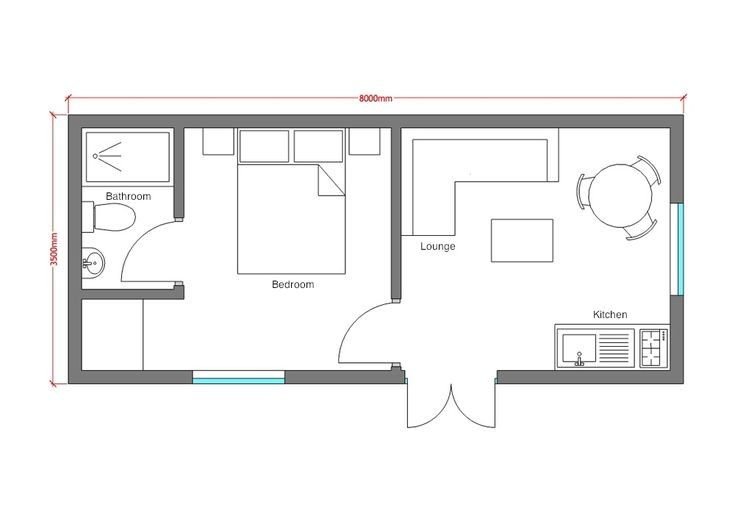door: (408, 355, 503, 446), (119, 223, 202, 299), (335, 298, 416, 375)
room: (400, 117, 692, 386), (180, 135, 406, 382), (69, 111, 201, 312)
wall: (63, 103, 686, 141), (65, 103, 88, 385), (495, 361, 683, 392), (283, 364, 408, 402), (387, 121, 410, 304), (62, 364, 193, 396), (662, 293, 694, 390), (666, 95, 694, 203), (77, 276, 188, 303), (166, 118, 191, 219)
window: (187, 367, 285, 394), (669, 199, 694, 293)
